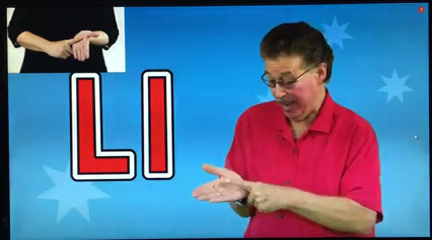L: (184, 156, 309, 217)
